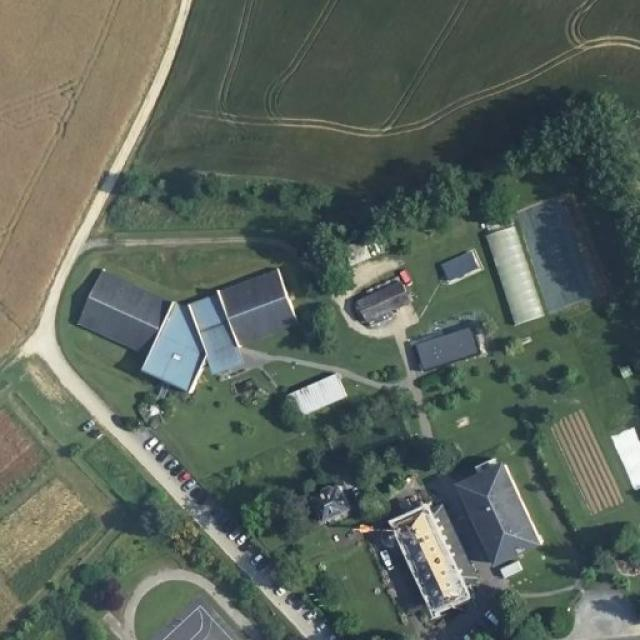immeuble: (387, 500, 478, 602)
maison: (455, 441, 546, 568), (348, 283, 409, 327), (440, 253, 475, 280)
usine: (72, 259, 294, 387)
